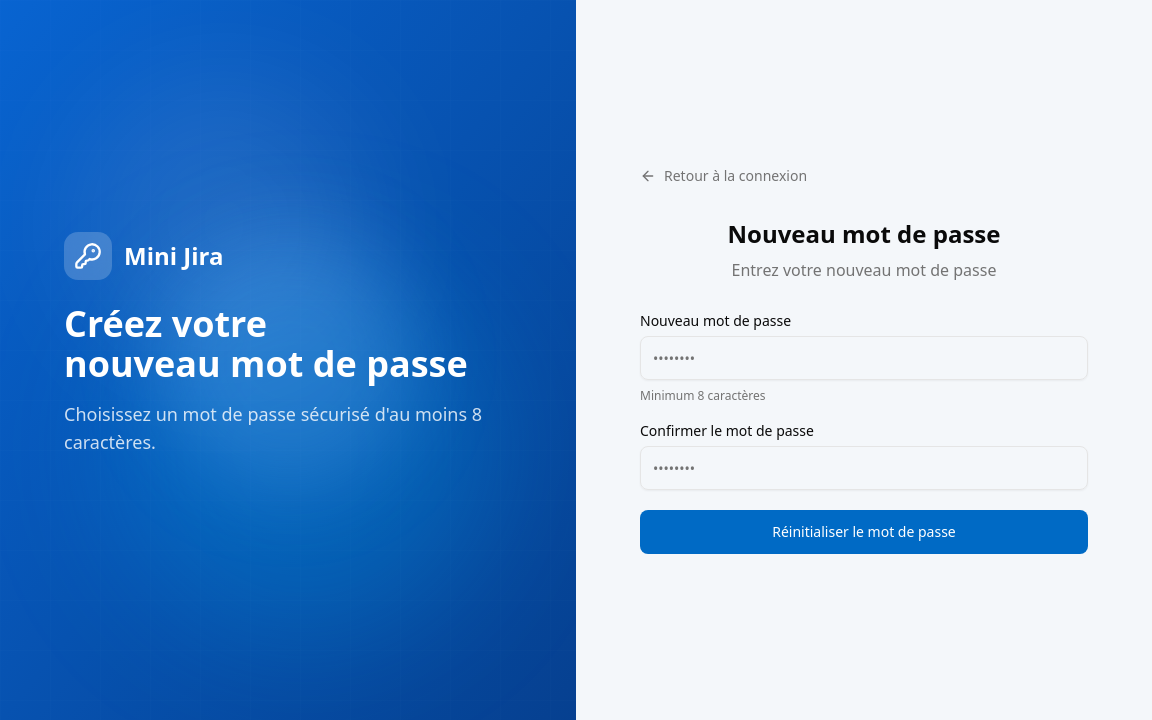
Test: ResetPassword › affiche l'écran de succès après réinitialisation
Type "password123" into the password field labelled "Nouveau mot de passe" at (864, 358), box [640,336,1088,380]
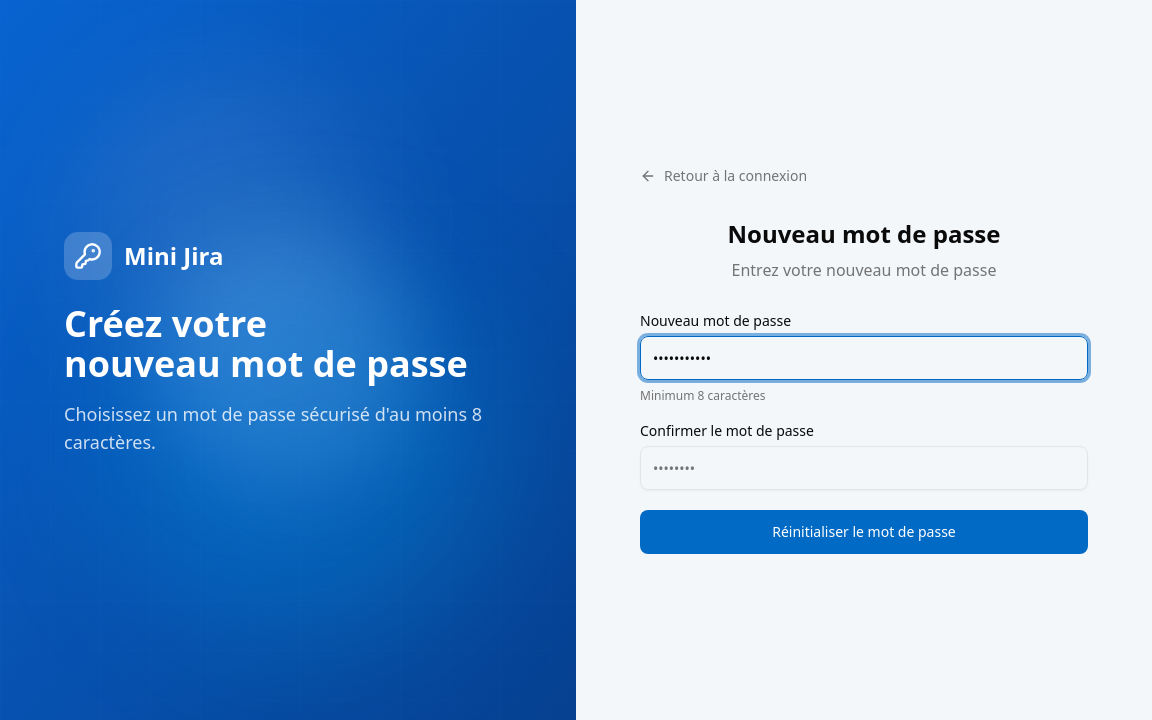
Type "password123" into the password field labelled "Confirmer le mot de passe" at (864, 468), box [640,446,1088,490]
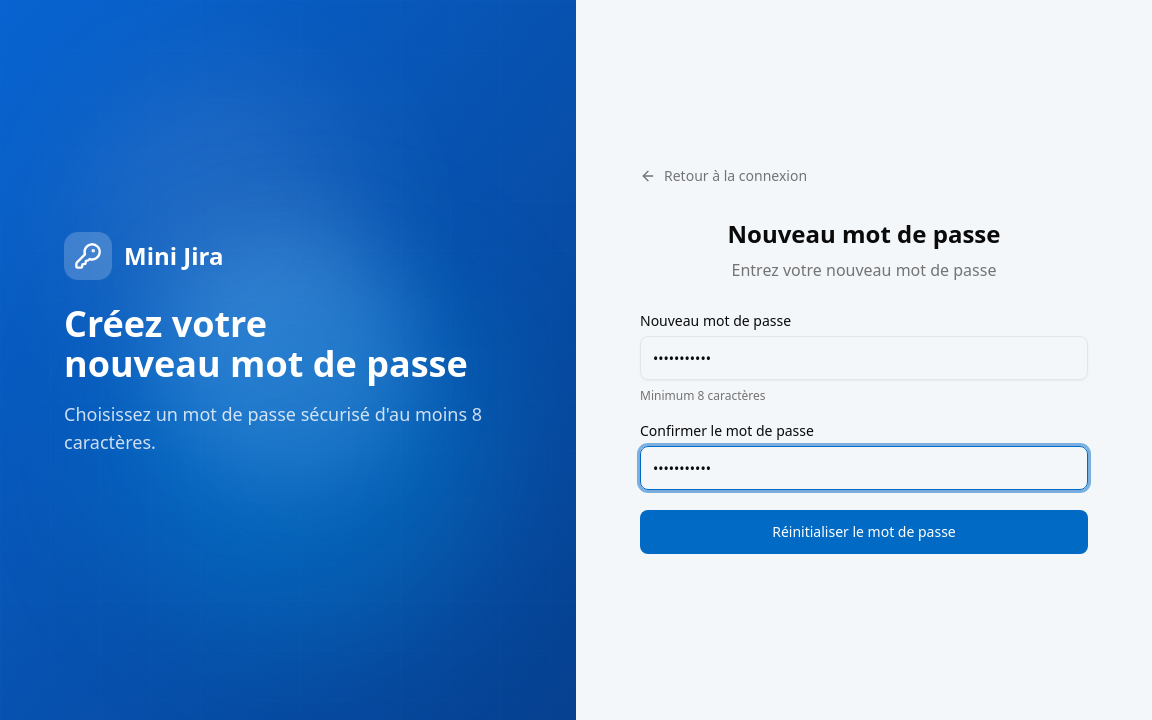
Click the button "Réinitialiser le mot de passe" at (864, 532), box [640,510,1088,554]
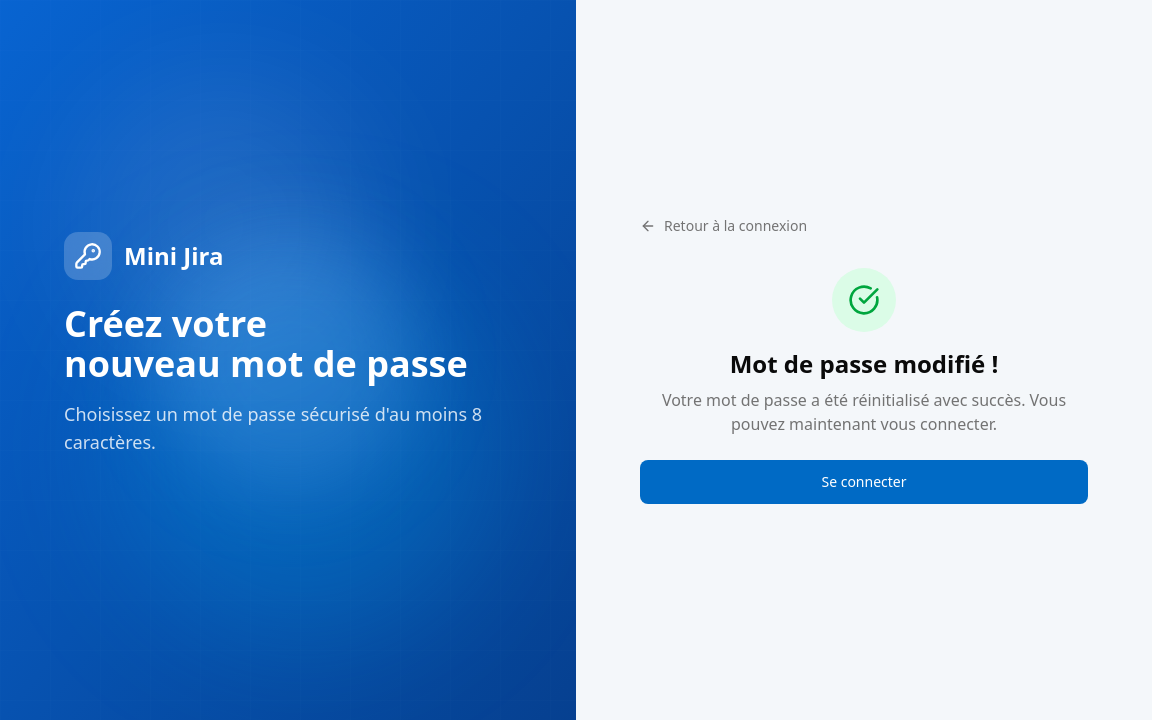
Expected: the heading "Mot de passe modifié !" is shown, [730,347,998,380]
